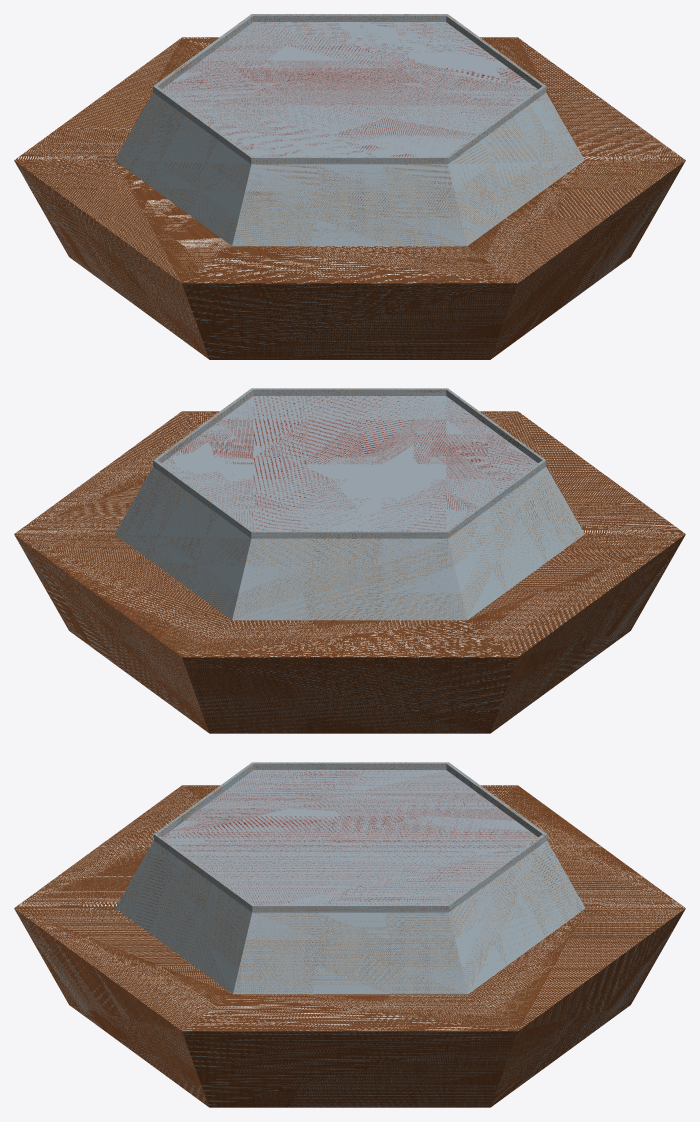
The model's file is De boom in de hal.fbx.
The picture shows the model from 3 angles, top to bottom: view 1: azimuth 30°, elevation 25°; view 2: azimuth 150°, elevation 25°; view 3: azimuth 270°, elevation 25°; orthographic projection.
Visible parts, largest first — view 1: SketchUp, ID40, ID53, ID66; view 2: SketchUp, ID40, ID53, ID66; view 3: SketchUp, ID40, ID53, ID66.
Part boxes in pixels (box(x1,y1,x2,y2)): SketchUp: box(14, 37, 685, 359); ID40: box(115, 14, 584, 246); ID53: box(162, 22, 537, 156); ID66: box(157, 15, 542, 89); SketchUp: box(14, 411, 685, 733); ID40: box(114, 388, 584, 620); ID53: box(162, 396, 537, 530); ID66: box(157, 389, 542, 463); SketchUp: box(14, 785, 685, 1107); ID40: box(115, 762, 585, 994); ID53: box(162, 770, 537, 904); ID66: box(157, 763, 542, 837).
Bounding box in the file's own units: 129 × 149 × 41.73.
6 materials, 4 textured.
